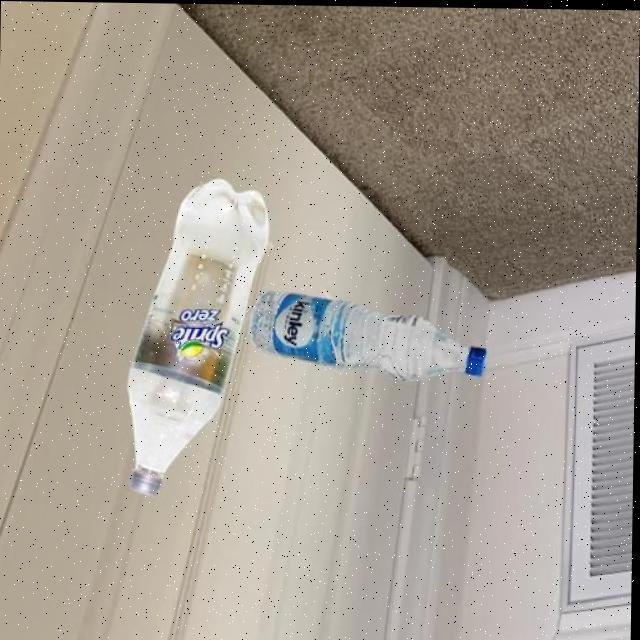bottle: (125, 177, 273, 498), (249, 289, 489, 382)
